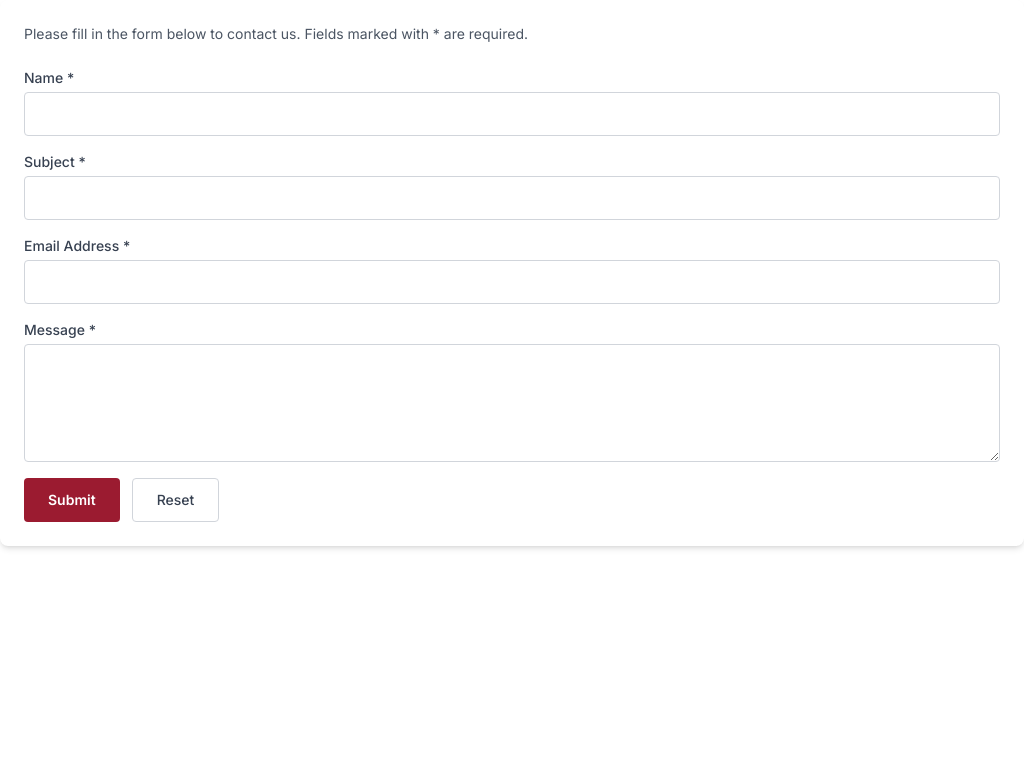
ContactForm › clears errors as the user types
The width and height of the screenshot is (1024, 768).
Click the button "Submit" at (72, 500), box [24,478,120,522]
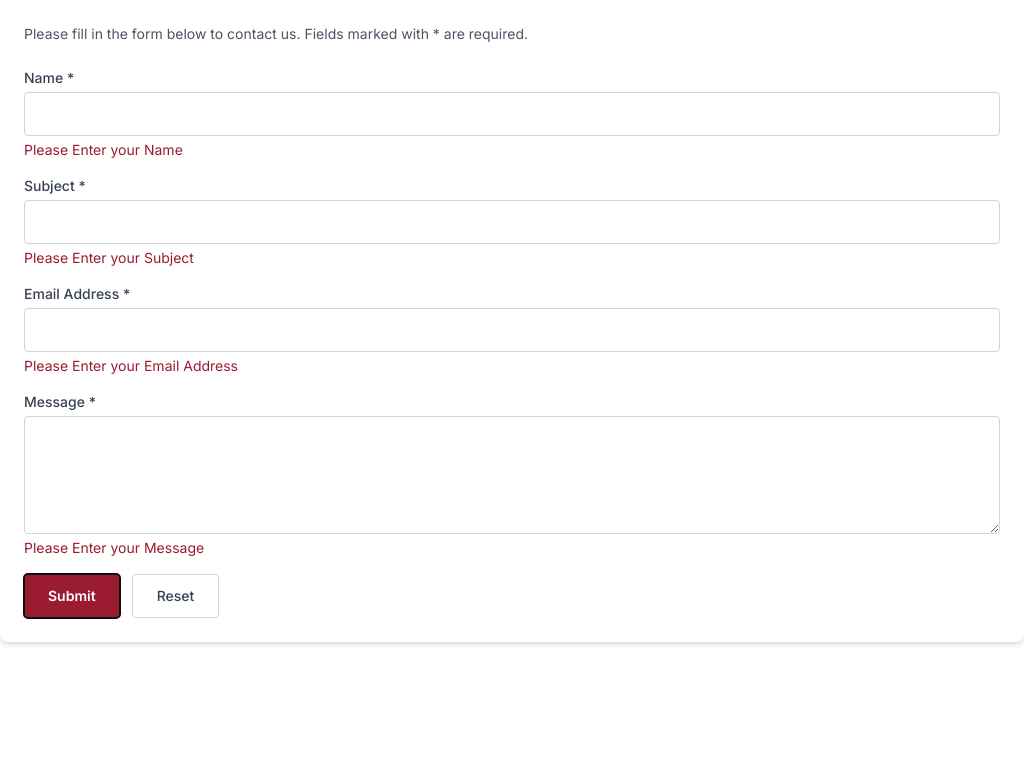
Check: the text "Please Enter your Name" is shown, box [24,141,183,158]
Type "John" into the field labelled "Name *" at (512, 114), box [24,92,1000,136]
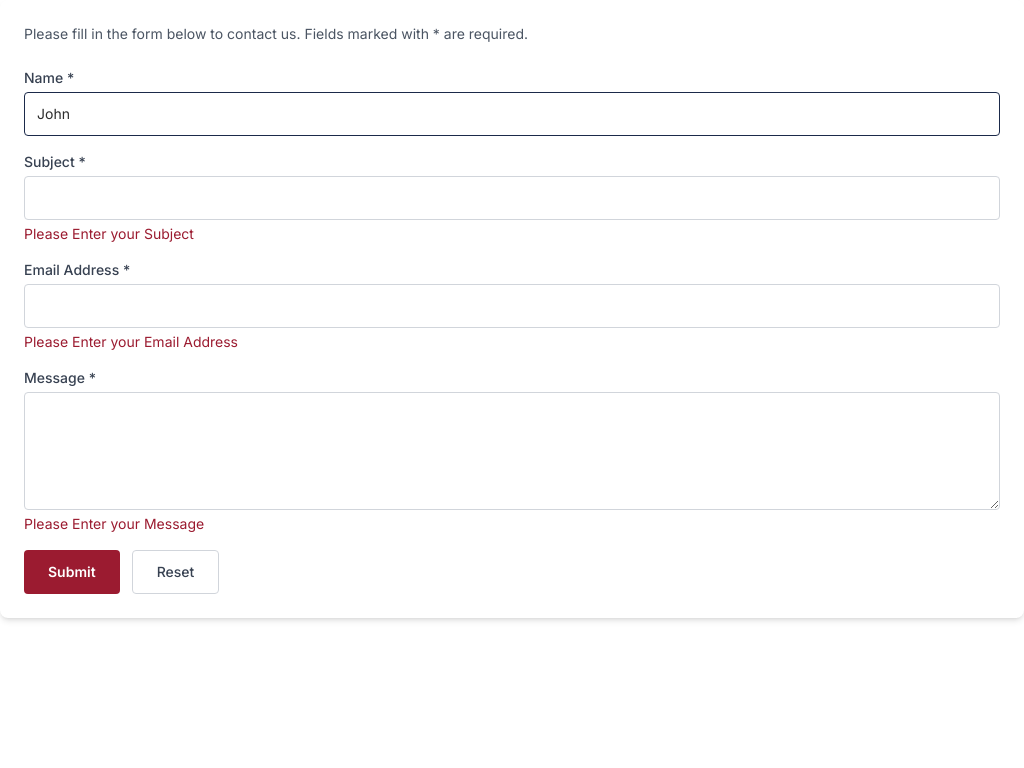
Check: the text "Please Enter your Name" is gone
